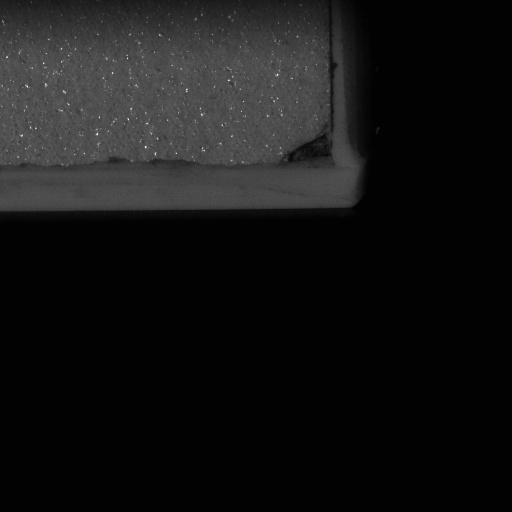bengque: (276, 126, 338, 170)
